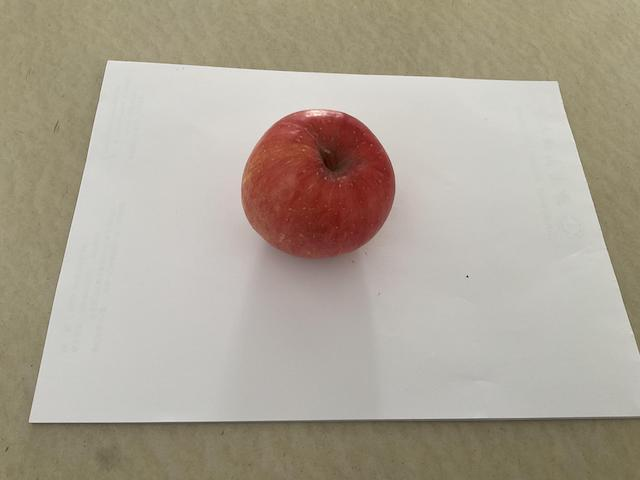apple: (232, 103, 399, 265)
